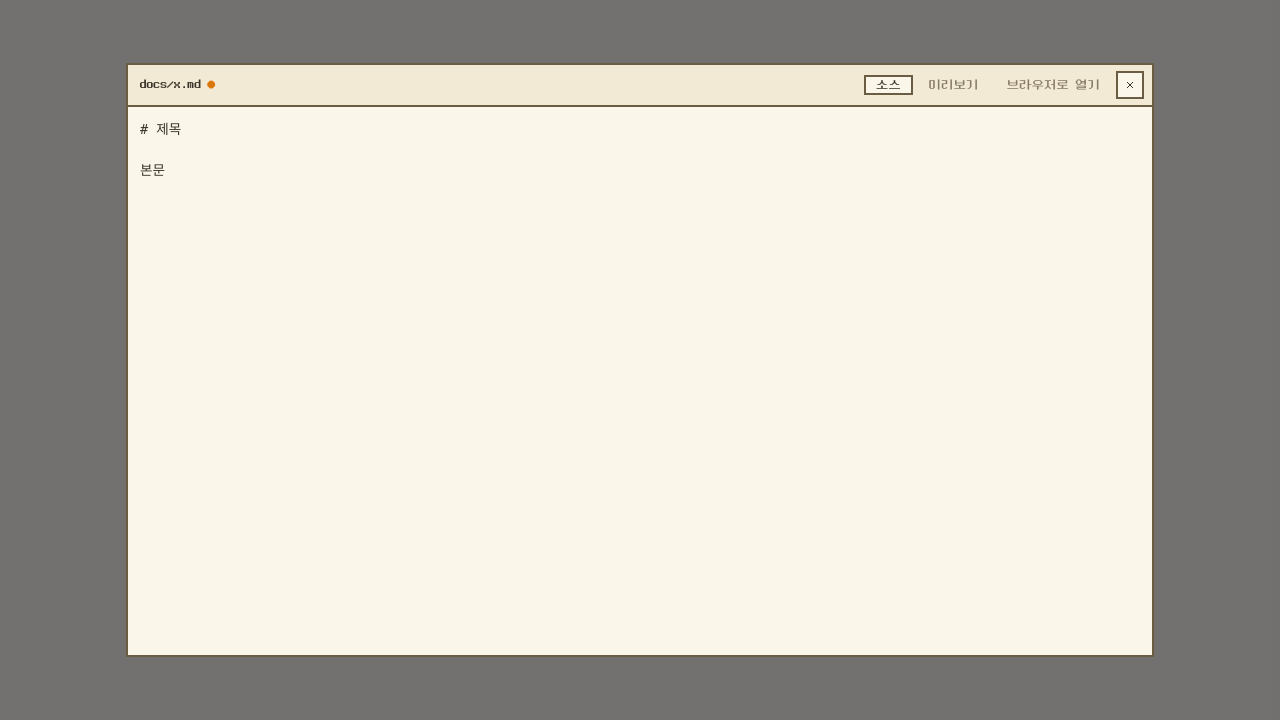
Test: MarkdownEditorOverlay › 미리보기 토글이 sanitize된 HTML을 렌더한다
The image size is (1280, 720).
Click the button "미리보기". click: (954, 85)
box: left=917, top=75, right=990, bottom=95
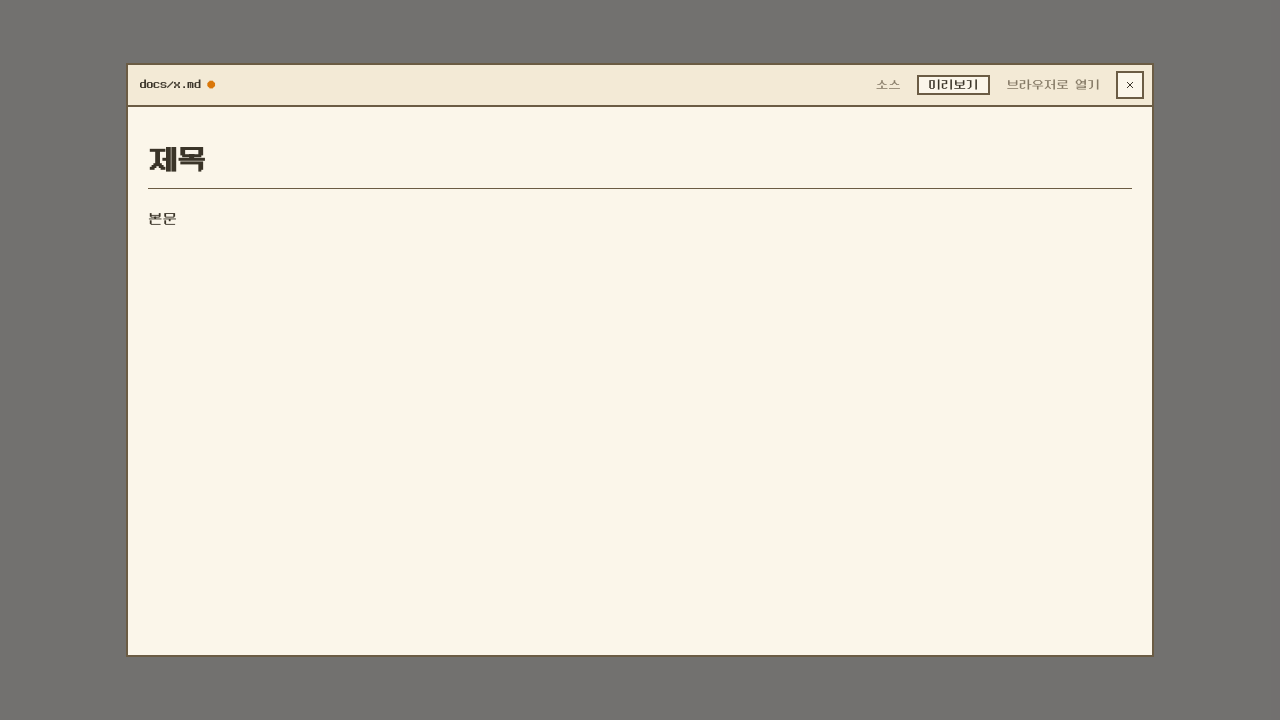
Now the heading "제목" is shown, box left=148, top=138, right=1132, bottom=189
